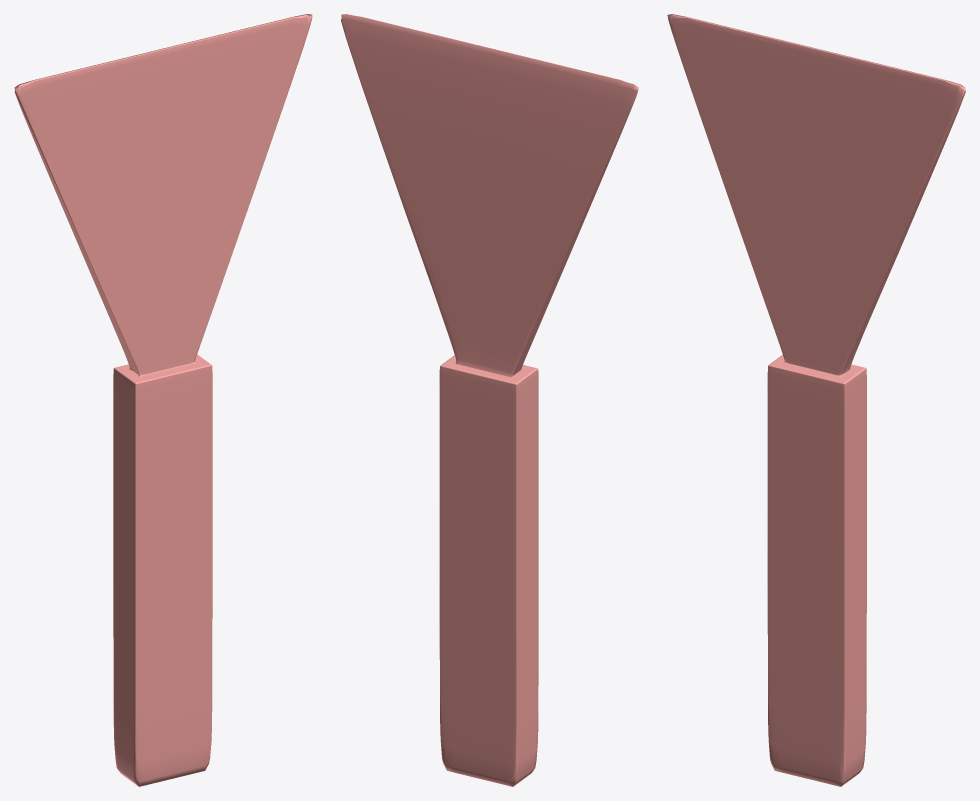
Rendered from SpatulaCopper.fbx.
3 renders of one model, left to right at view 1: azimuth 30°, elevation 25°; view 2: azimuth 150°, elevation 25°; view 3: azimuth 330°, elevation 25°, orthographic.
Visible parts, largest first — view 1: pasted__HighPoly2; view 2: pasted__HighPoly2; view 3: pasted__HighPoly2.
Boxes of the visible parts, x1,y1,x2,y2 form: pasted__HighPoly2: (14,14,312,786); pasted__HighPoly2: (341,14,638,786); pasted__HighPoly2: (667,14,965,786).
Size of the model in its own units: 7.69 by 17.84 by 1.
